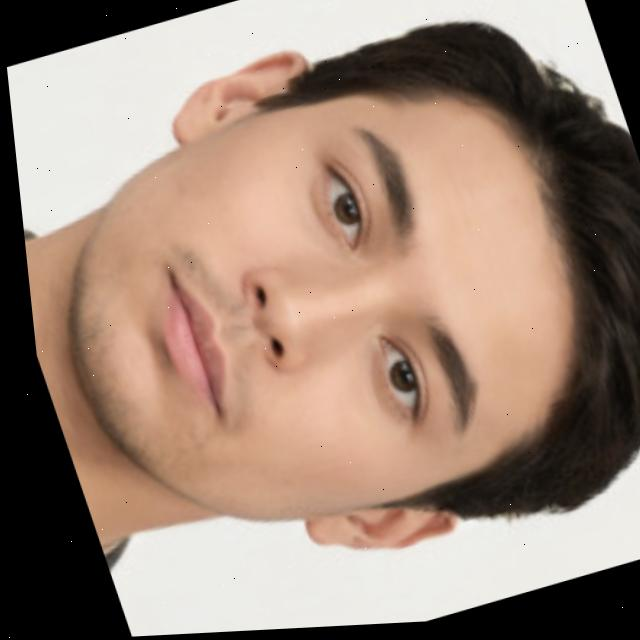natural: (2, 3, 640, 638)
